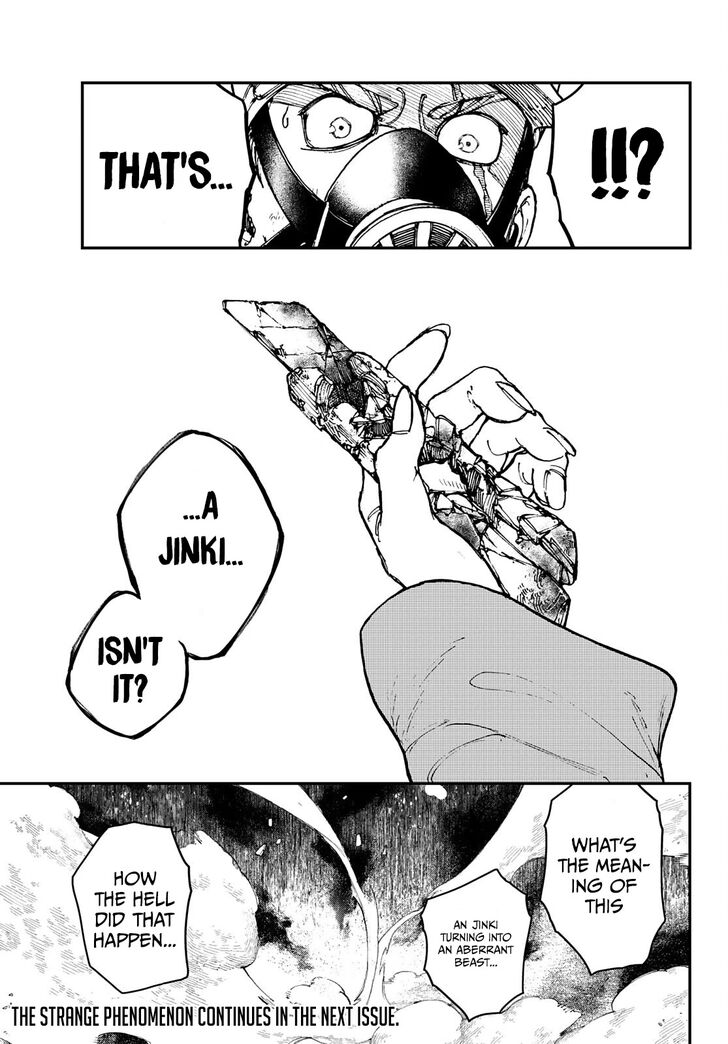bubble: (117, 431, 283, 659), (81, 82, 255, 248), (540, 783, 666, 975), (549, 83, 691, 248), (72, 822, 191, 994), (68, 592, 188, 738), (421, 869, 533, 1021)
